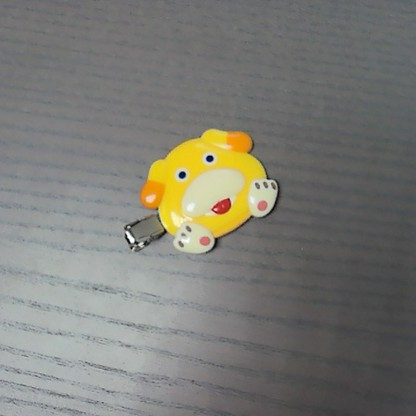dogclip: (118, 124, 282, 256)
